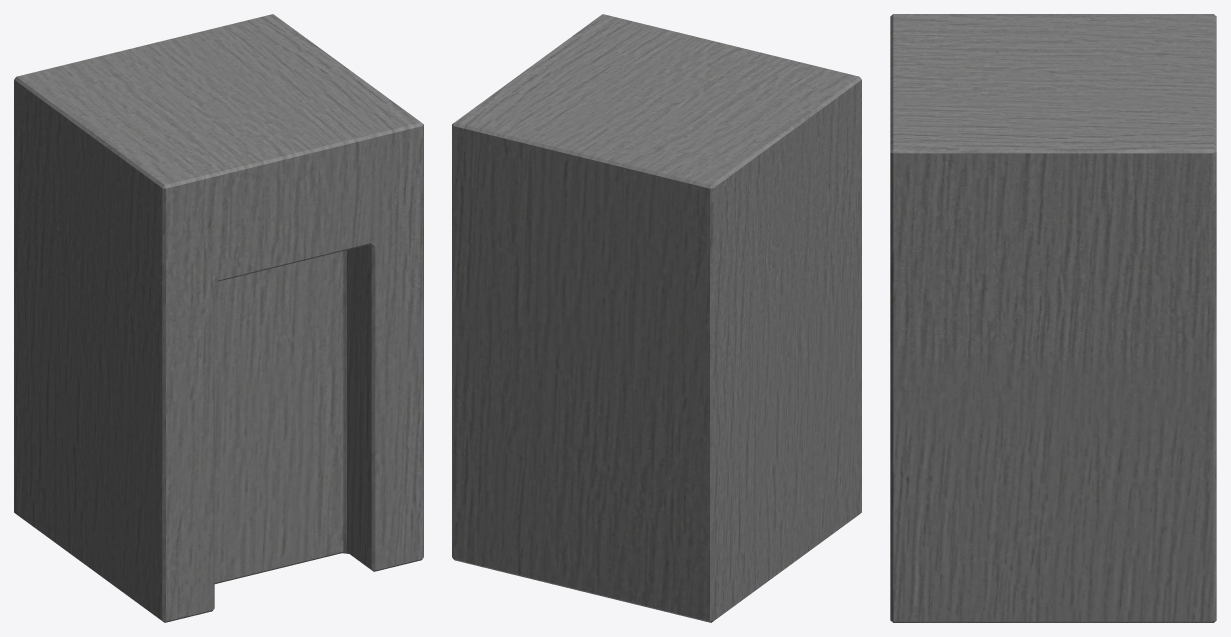
The model's file is KL_DoorArchBlock.fbx.
3 renders of one model, left to right at view 1: azimuth 30°, elevation 25°; view 2: azimuth 150°, elevation 25°; view 3: azimuth 270°, elevation 25°, orthographic. The views are drawn at different scales.
Visible parts, largest first — view 1: pCube3; view 2: pCube3; view 3: pCube3.
Boxes of the visible parts, bbox=[...] form: pCube3: bbox=[14, 14, 423, 622]; pCube3: bbox=[452, 14, 861, 622]; pCube3: bbox=[890, 14, 1216, 622].
Size of the model in its own units: 250 by 400 by 250.
1 material, 1 textured.
